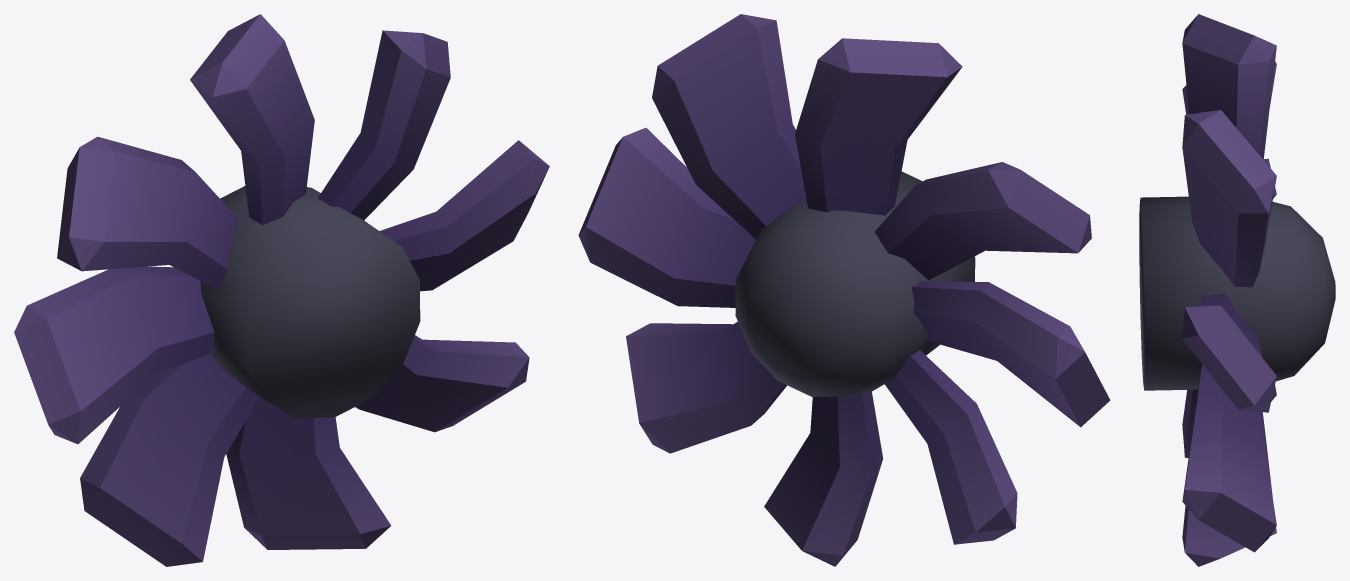
The model's file is SM_Fan _01_02.fbx.
The picture shows the model from 3 angles, left to right: view 1: azimuth 30°, elevation 25°; view 2: azimuth 150°, elevation 25°; view 3: azimuth 270°, elevation 25°; orthographic projection. The views are drawn at different scales.
Parts seen in each view (by area): view 1: SM_Fan _01_02; view 2: SM_Fan _01_02; view 3: SM_Fan _01_02.
Part boxes in pixels (x1,y1,x2,y2): SM_Fan _01_02: (14, 14, 549, 566); SM_Fan _01_02: (578, 14, 1110, 566); SM_Fan _01_02: (1139, 14, 1335, 566).
Bounding box in the file's own units: 2.66 × 2.66 × 0.943.
